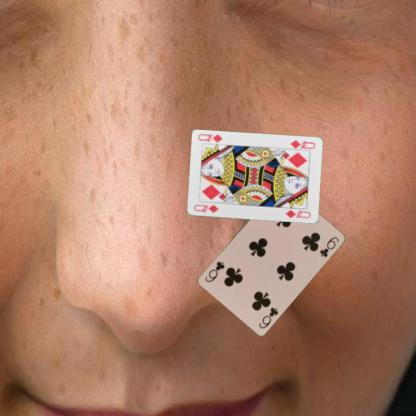6c: (256, 304, 280, 329)
Qd: (286, 138, 316, 152), (191, 202, 220, 214)
